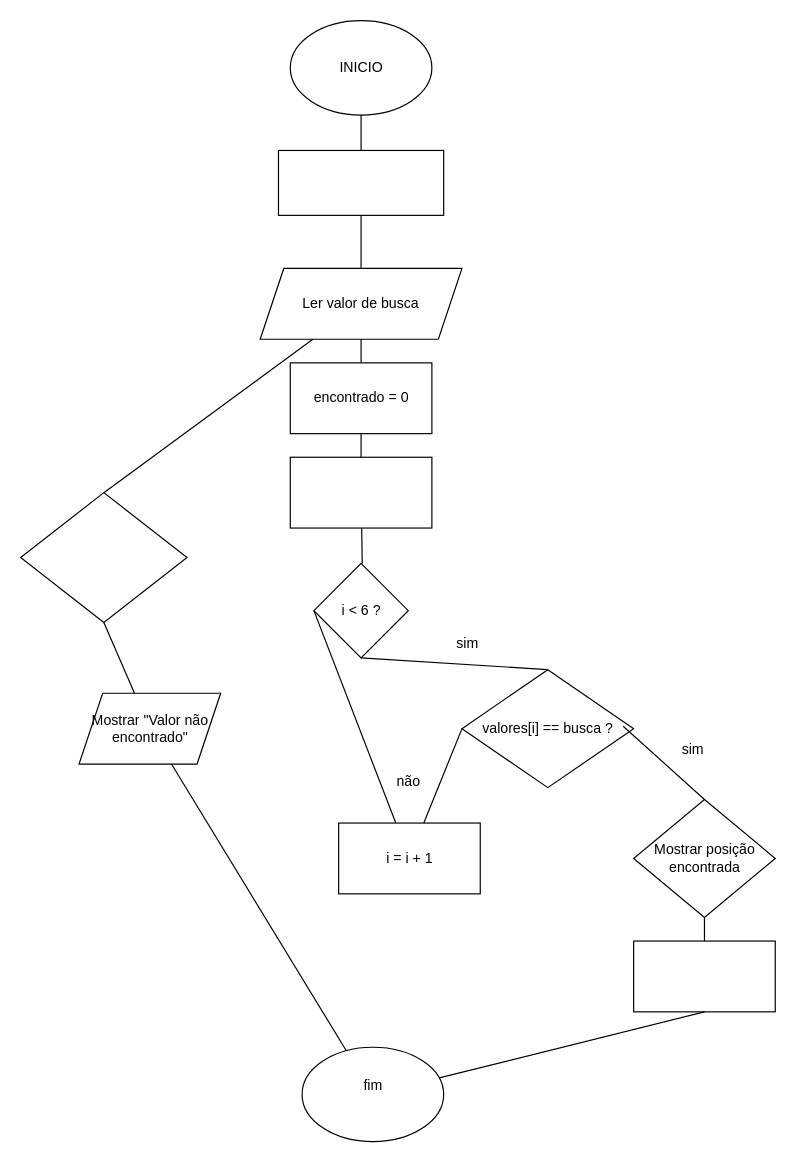
Image size: 796x1162. Some labels were removed from this diagram. The centre of each missing label's shape, as x and y in pixels:
"Criar array valores = {12,45,78,23,56,89}" goes at point (360, 182).
"encontrado = 1" goes at point (703, 976).
"encontrado == 0 ?" goes at point (103, 556).
"i = 0" goes at point (360, 492).
